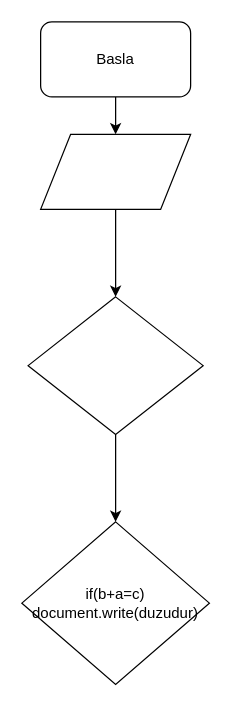
This 231x706 diagram has some shape labels left out. The shapes that lost their labels are listed below. From the top down, each one's centre as x and y in pixels, then its label:
At [115,171]: "var a = 10; var b=20; var c=30;".
At [115,365]: "if(a+c=b){ document.write(sehvdir) }".
